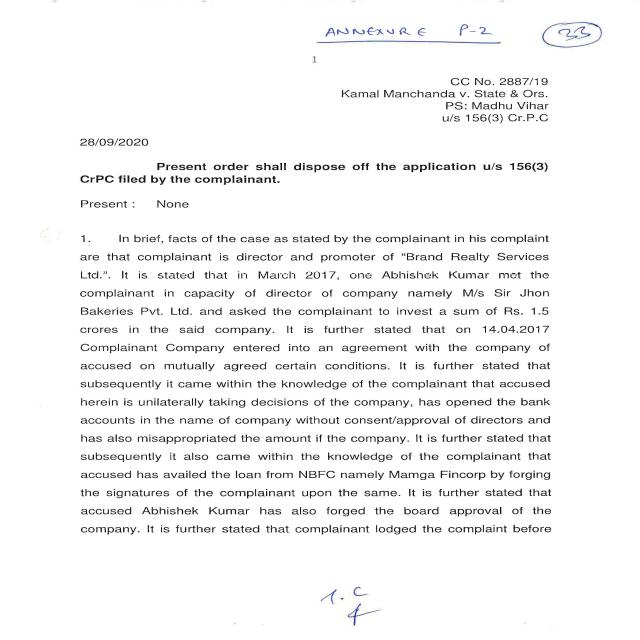page-number: (508, 0, 640, 71)
